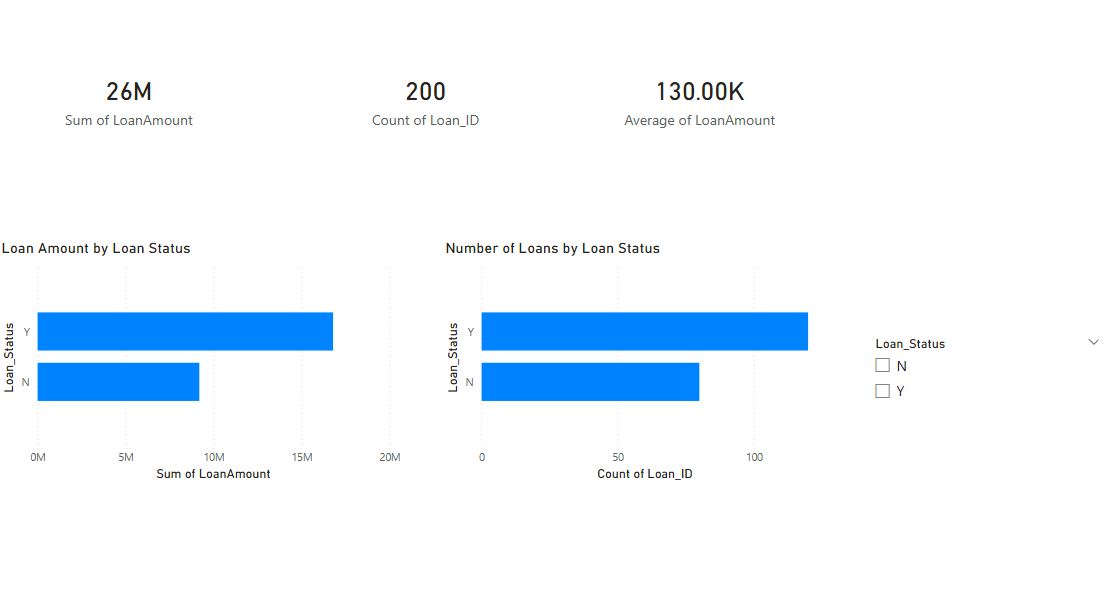

What the dashboard file says about the page in this screenshot:
{"tool":"powerbi","page":{"name":"Page 1","canvas":[1280,720],"ordinal":0},"visuals":[{"type":"card","title":"Total Loan Amount","fields":{"Values":["Sum(loan_portfolio_dataset copy.LoanAmount)"]},"box":[10,0,280,280],"z":0},{"type":"card","title":"Number of Loans","fields":{"Values":["CountNonNull(loan_portfolio_dataset copy.Loan_ID)"]},"box":[348,0,279.2,280.5],"z":1},{"type":"card","title":"Average Loan Amount","fields":{"Values":["Avg(loan_portfolio_dataset copy.LoanAmount)"]},"box":[660.4,0,279.2,280.5],"z":2},{"type":"clusteredBarChart","title":"Loan Amount by Loan Status","fields":{"Category":["loan_portfolio_dataset copy.Loan_Status"],"Y":["Sum(loan_portfolio_dataset copy.LoanAmount)"]},"box":[0,309.8,464.1,280.5],"z":3},{"type":"clusteredBarChart","title":"Number of Loans by Loan Status","fields":{"Category":["loan_portfolio_dataset copy.Loan_Status"],"Y":["CountNonNull(loan_portfolio_dataset copy.Loan_ID)"]},"box":[506.1,309.8,433.5,280.5],"z":4},{"type":"slicer","fields":{"Values":["loan_portfolio_dataset copy.Loan_Status"]},"box":[988,415.6,280.5,150.4],"z":5}]}

Visuals, with their boxes on the page's 1280x720 design canvas (x1, y1, x2, y2). These are canvas units, not pixel positions in the 1119x599 screenshot, which may show the page scaled, cropped or inside an application window:
"Total Loan Amount" card: (10,0,290,280)
"Number of Loans" card: (348,0,627,280)
"Average Loan Amount" card: (660,0,940,280)
"Loan Amount by Loan Status" clusteredBarChart: (0,310,464,590)
"Number of Loans by Loan Status" clusteredBarChart: (506,310,940,590)
slicer - loan_portfolio_dataset copy.Loan_Status: (988,416,1268,566)
